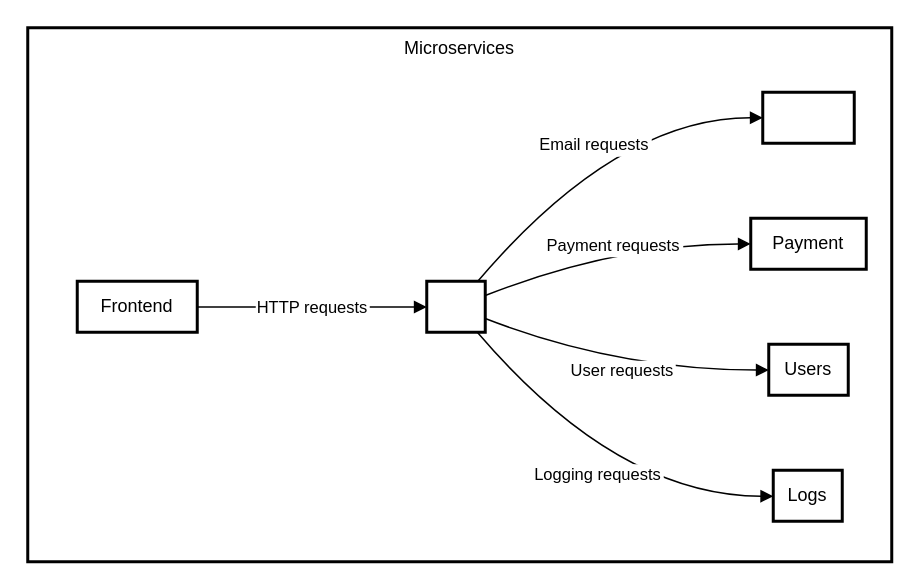
This 918x588 diagram has some shape labels left out. Here are the shapes that lost their labels. From the top down, the centre of each, then its label:
pixel 807 117: Mailer
pixel 455 306: API
